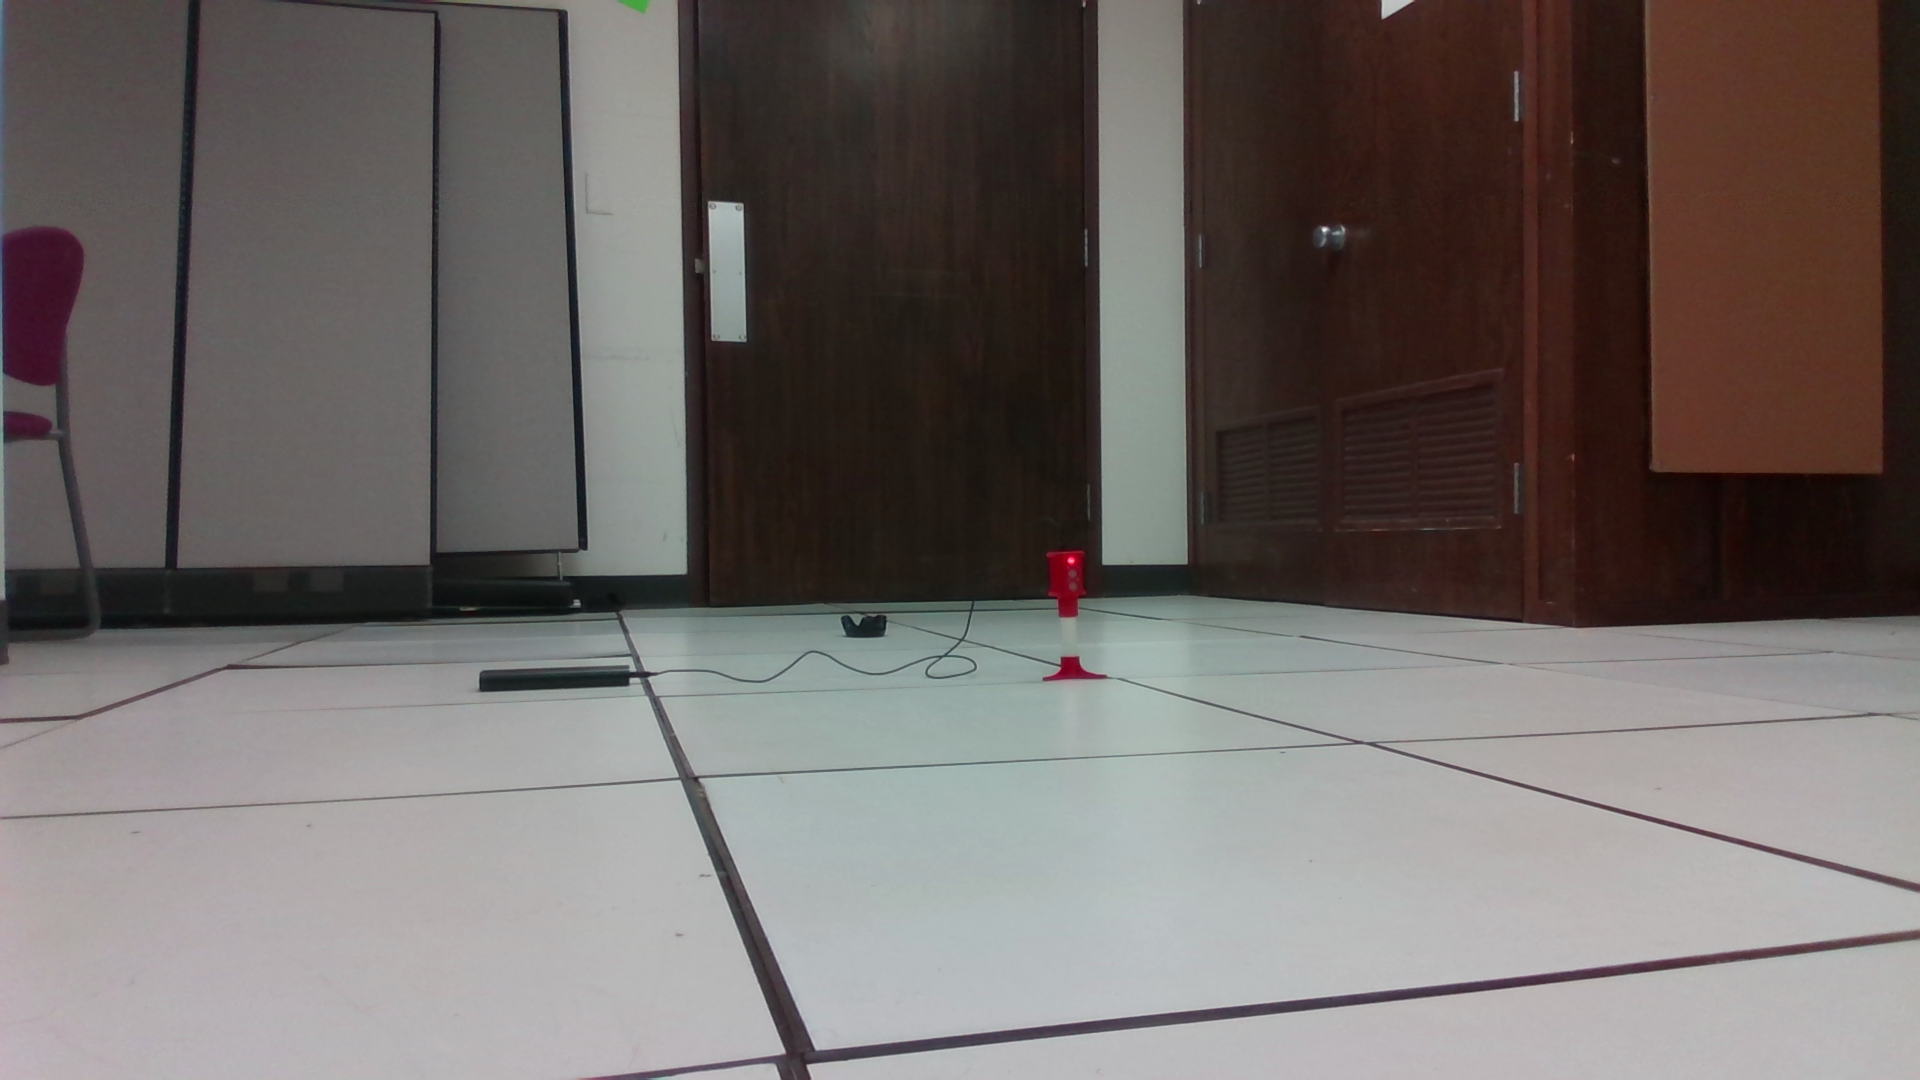stoplight: (1048, 549, 1091, 617)
